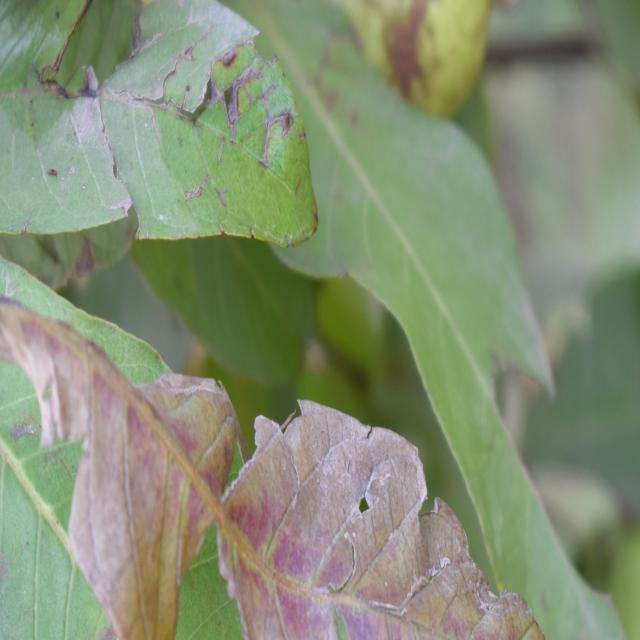Canker: (0, 302, 542, 639), (0, 0, 316, 246)
